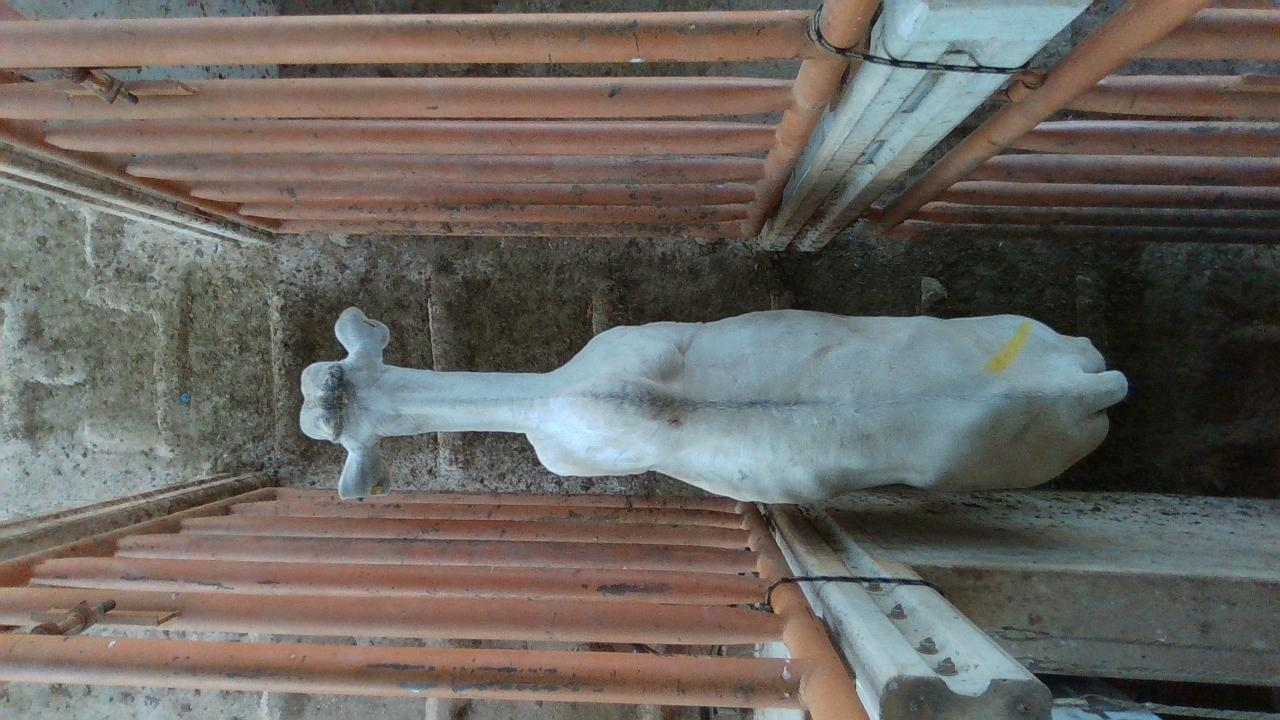cattle: (297, 303, 1129, 506)
